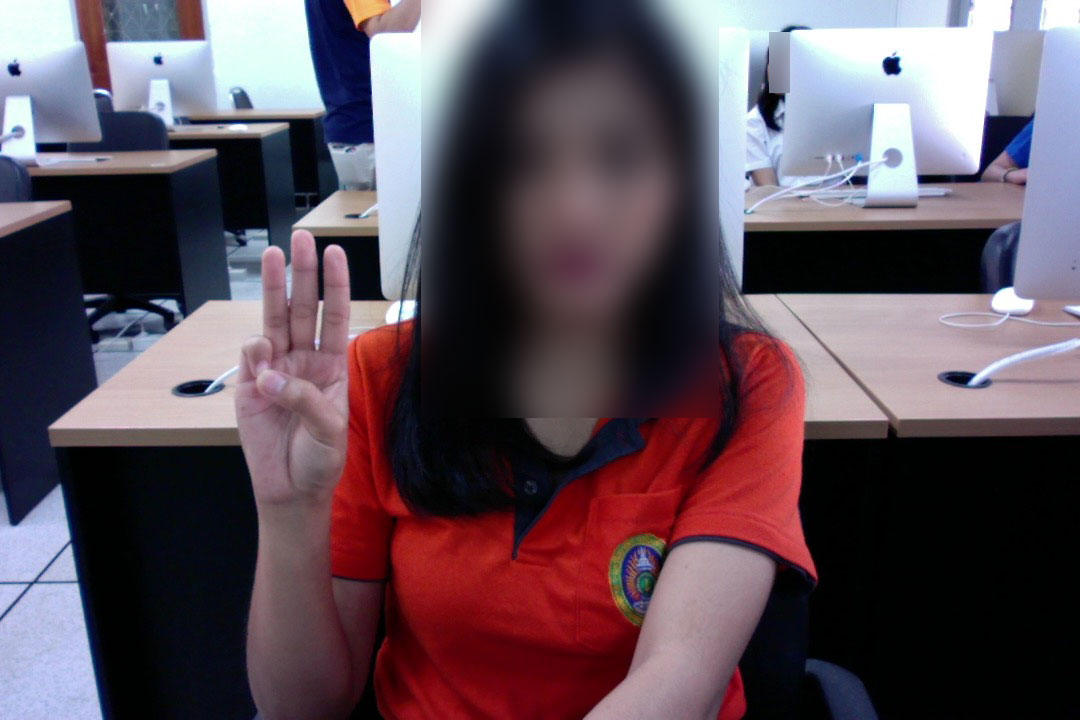wor: (218, 225, 367, 510)
